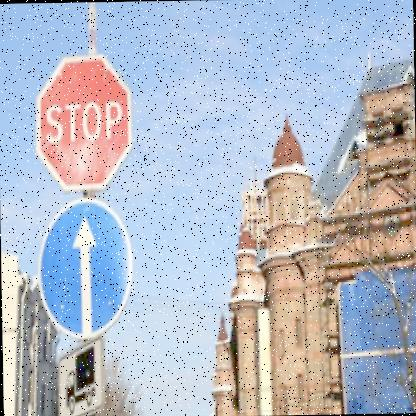stop: (32, 51, 132, 188)
